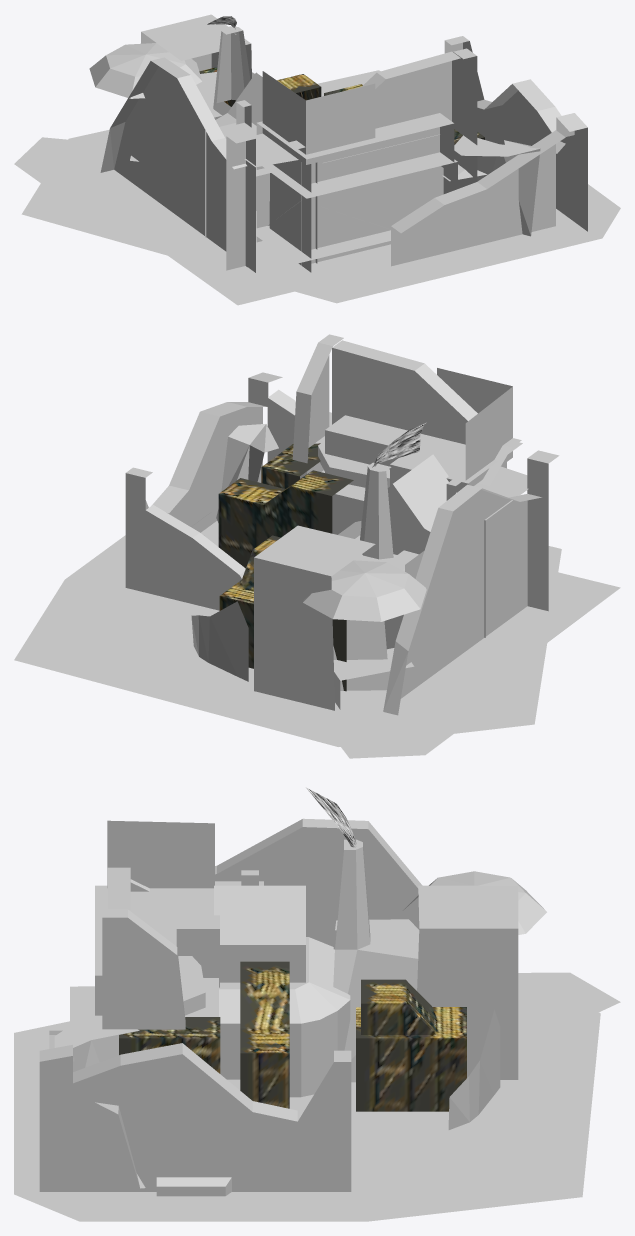
Rendered from R_Rampart_01.fbx.
3 renders of one model, top to bottom at view 1: azimuth 30°, elevation 25°; view 2: azimuth 150°, elevation 25°; view 3: azimuth 270°, elevation 25°, orthographic. The views are drawn at different scales.
Visible parts, largest first — view 1: T_Workshop_01_Lock, T_Workshop_01, T_BuildForm_01; view 2: T_Workshop_01_Lock, T_Workshop_01, T_BuildForm_03 (1), T_BuildForm_01, T_BuildForm_02 (4), Smoke_Building01; view 3: T_Workshop_01_Lock, T_Workshop_01, T_BuildForm_01, T_BuildForm_03 (1), T_BuildForm_02 (4), Smoke_Building01.
Part boxes in pixels (x1,y1,x2,y2): T_Workshop_01_Lock: (21,14,620,303); T_Workshop_01: (14,26,573,305); T_BuildForm_01: (199,67,321,106); T_Workshop_01_Lock: (14,334,561,746); T_Workshop_01: (82,368,620,758); T_BuildForm_03 (1): (218,470,353,568); T_BuildForm_01: (219,535,346,691); T_BuildForm_02 (4): (261,443,320,488); Smoke_Building01: (372,422,426,467); T_Workshop_01_Lock: (14,818,600,1221); T_Workshop_01: (54,820,620,1191); T_BuildForm_01: (356,979,466,1111); T_BuildForm_03 (1): (240,961,289,1108); T_BuildForm_02 (4): (119,1017,220,1073); Smoke_Building01: (306,787,356,847).
Size of the model in its own units: 9.27 by 4.46 by 8.59.
Materials: 2 (2 with a texture image).
